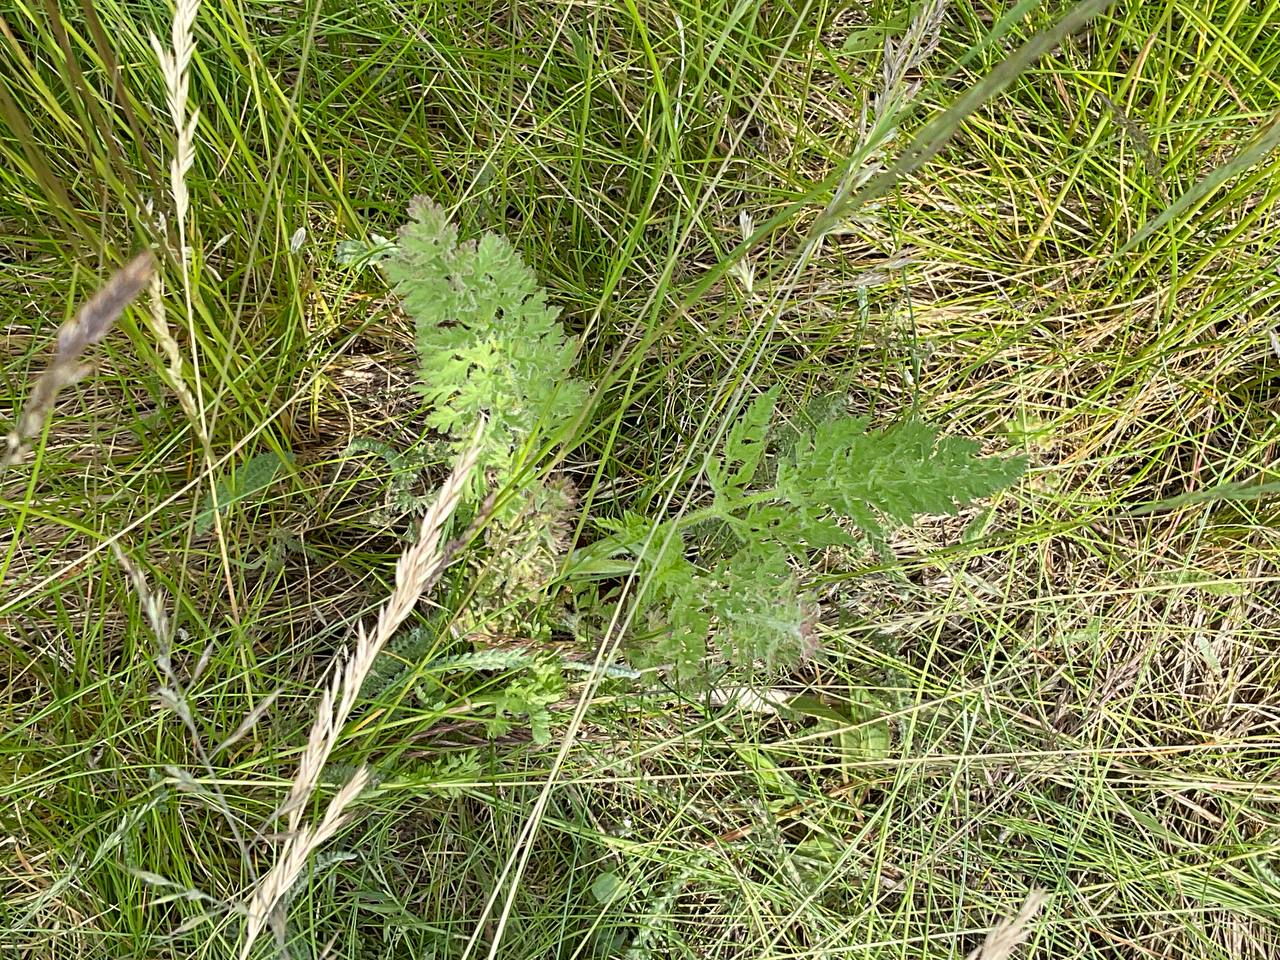daucus-carota: (357, 183, 1033, 759)
